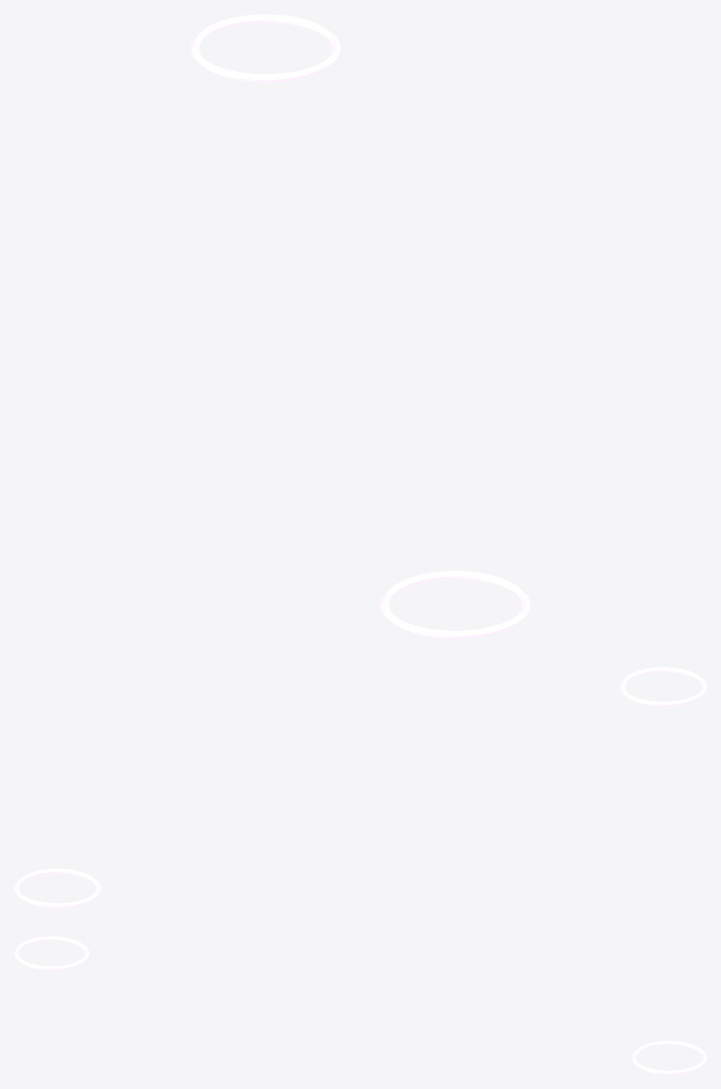
File: EggPedestalGlow_ShadowViolet.fbx
The picture shows the model from 3 angles, top to bottom: view 1: azimuth 30°, elevation 25°; view 2: azimuth 150°, elevation 25°; view 3: azimuth 270°, elevation 25°; orthographic projection. The views are drawn at different scales.
Visible parts, largest first — view 1: PedGlow1.001; view 2: PedGlow1.001; view 3: PedGlow1.001.
Part boxes in pixels (bbox=[...]): PedGlow1.001: bbox=[190, 14, 530, 638]; PedGlow1.001: bbox=[14, 667, 706, 907]; PedGlow1.001: bbox=[14, 936, 706, 1074].
Bounding box in the file's own units: 2088 × 28 × 4488.
